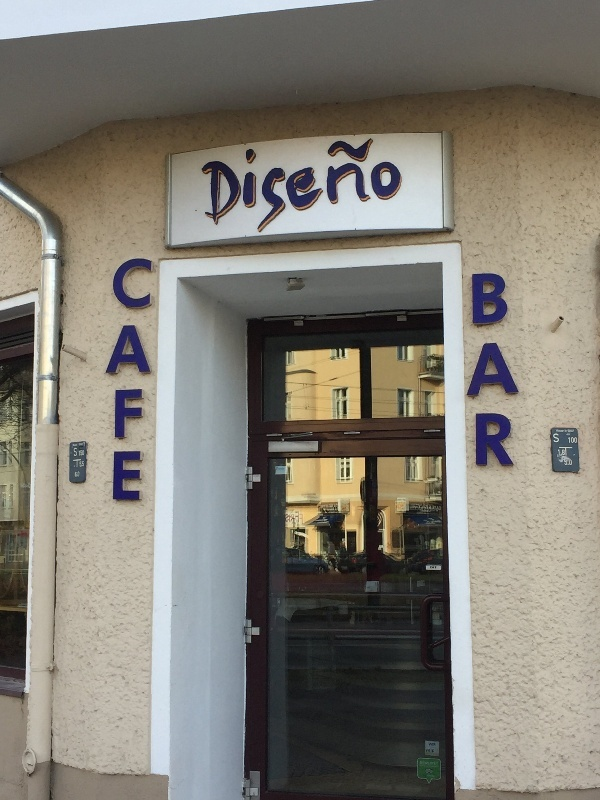text: (113, 258, 128, 501), (129, 258, 144, 501), (145, 258, 158, 501), (465, 272, 480, 467), (481, 272, 496, 467), (497, 272, 512, 467), (513, 272, 521, 467), (209, 146, 224, 236), (225, 146, 240, 236), (241, 146, 256, 236), (257, 146, 272, 236), (273, 146, 288, 236), (289, 146, 304, 236), (305, 146, 320, 236), (321, 146, 336, 236), (337, 146, 352, 236), (353, 146, 368, 236), (369, 146, 384, 236), (385, 146, 400, 236), (201, 146, 208, 236), (417, 503, 432, 513), (289, 512, 299, 525), (561, 447, 573, 457), (433, 503, 442, 513), (401, 146, 402, 236), (564, 460, 576, 466), (553, 434, 560, 443), (410, 503, 416, 513), (420, 761, 432, 766), (73, 460, 80, 468), (299, 514, 304, 525), (74, 448, 80, 457), (568, 438, 576, 444), (565, 429, 576, 432), (286, 512, 288, 525), (433, 761, 438, 766), (75, 472, 80, 477), (426, 749, 432, 753), (568, 430, 576, 433), (561, 450, 565, 456), (81, 461, 84, 467), (556, 429, 560, 433), (433, 566, 438, 569), (81, 451, 84, 456), (429, 743, 432, 747), (433, 743, 436, 747), (561, 429, 564, 433), (558, 450, 560, 456), (559, 447, 560, 457), (433, 749, 435, 753), (81, 460, 82, 468), (430, 566, 432, 569), (79, 451, 80, 456)
